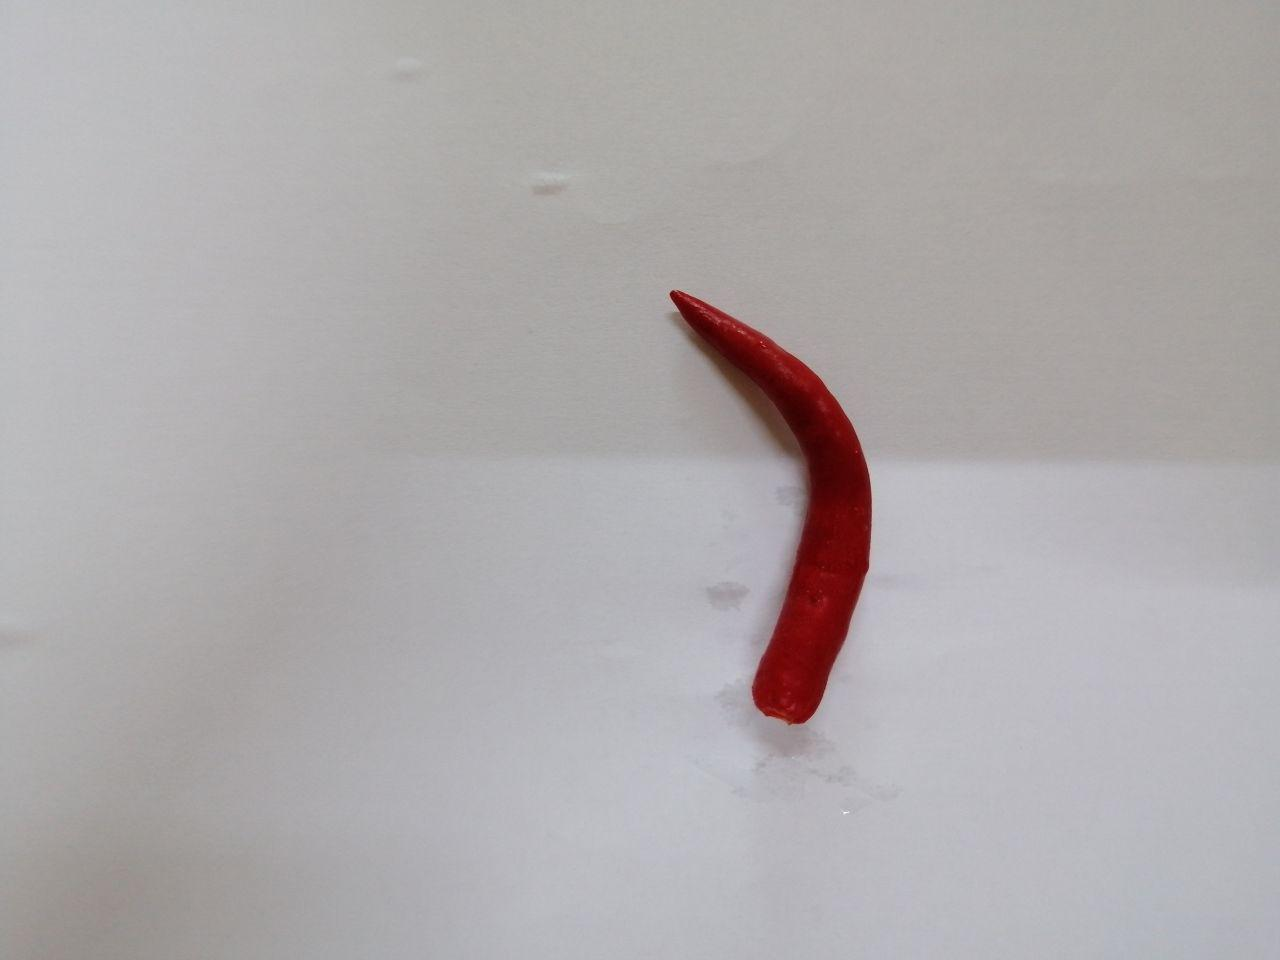lada merah: (656, 286, 885, 749)
